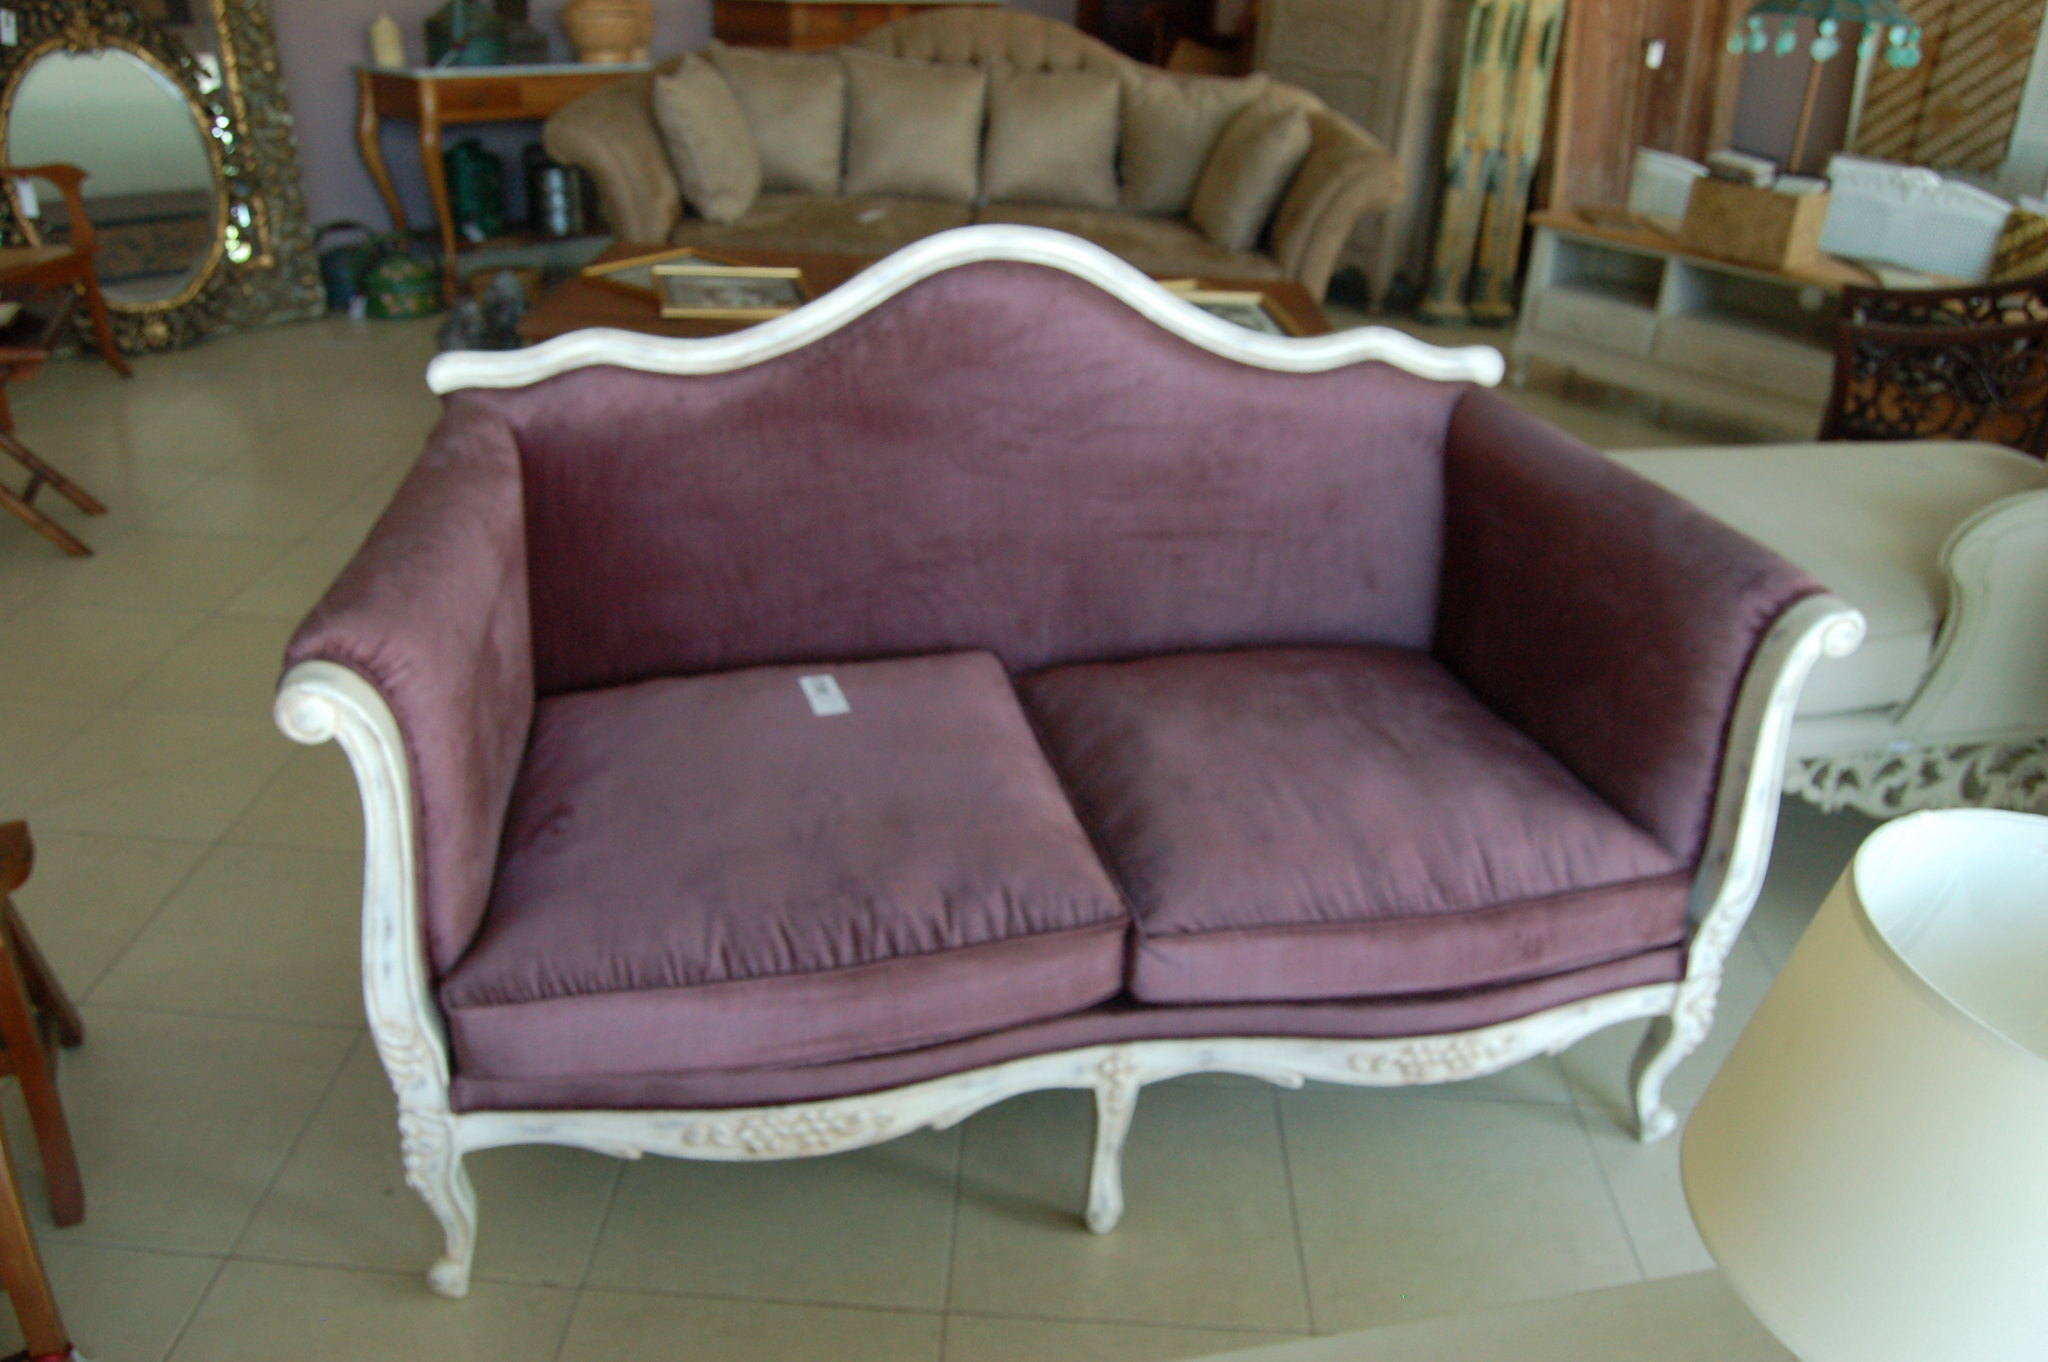sofa: (258, 237, 1857, 1257), (532, 24, 1417, 322)
